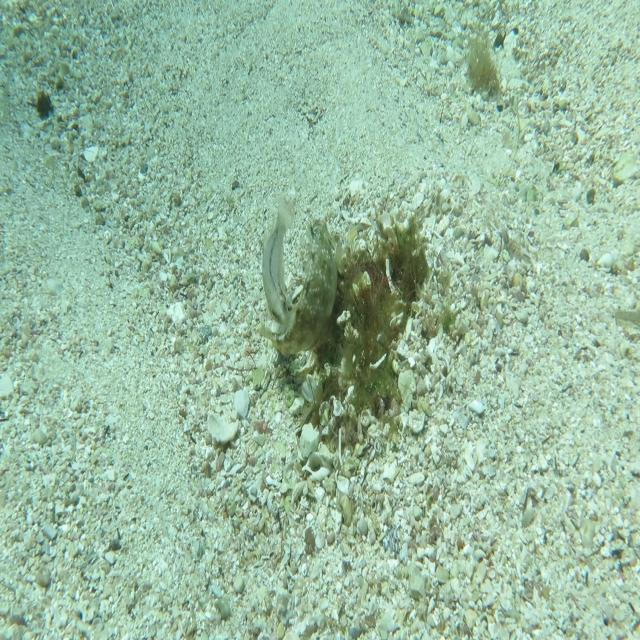DAN_CIRC: (257, 214, 339, 359)
core_nest: (376, 238, 420, 284)
female: (262, 190, 296, 328)
nest: (299, 198, 452, 452)
